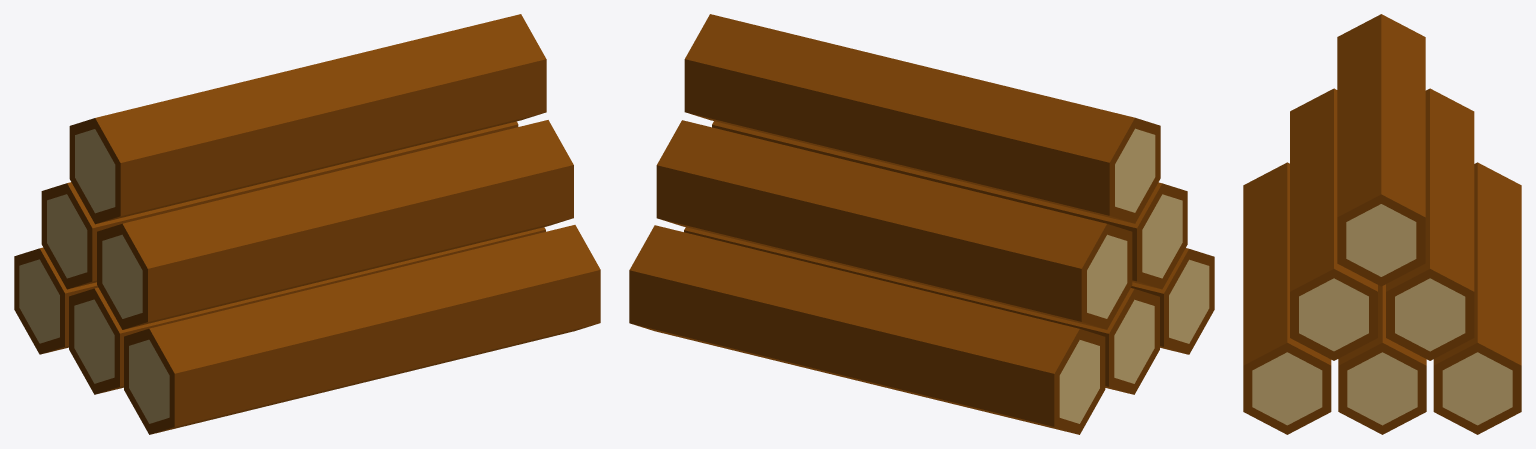
File: ToraMadeira.fbx
The picture shows the model from 3 angles, left to right: view 1: azimuth 30°, elevation 25°; view 2: azimuth 150°, elevation 25°; view 3: azimuth 270°, elevation 25°; orthographic projection. The views are drawn at different scales.
Visible parts, largest first — view 1: Circle.004; view 2: Circle.004; view 3: Circle.004.
Part boxes in pixels (box(x1,y1,x2,y2)): Circle.004: box(14, 14, 600, 434); Circle.004: box(629, 14, 1214, 434); Circle.004: box(1243, 14, 1521, 434).
Bounding box in the file's own units: 167 × 104 × 109.
